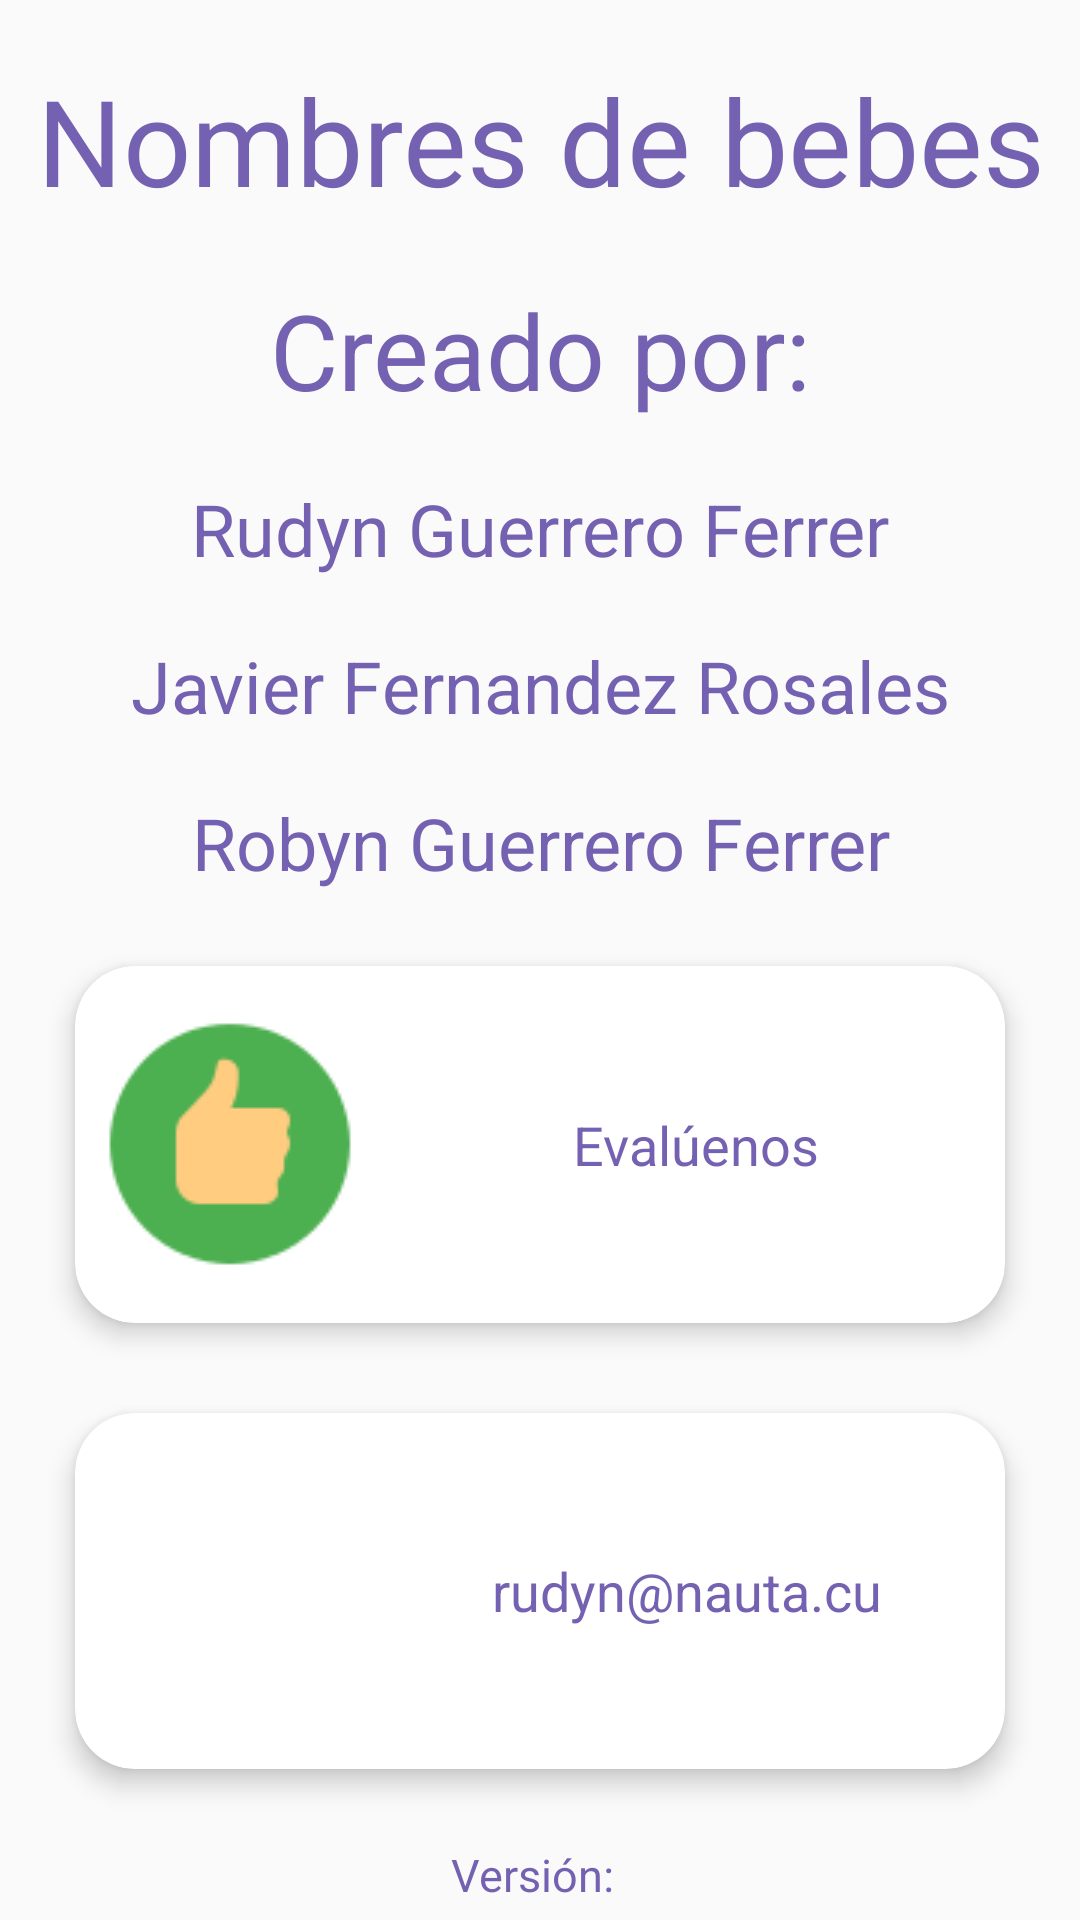

Screen size 1080w x 1920h. Icon name, then its center in pixels as (x,y):
evaluenos: (230,1144)
